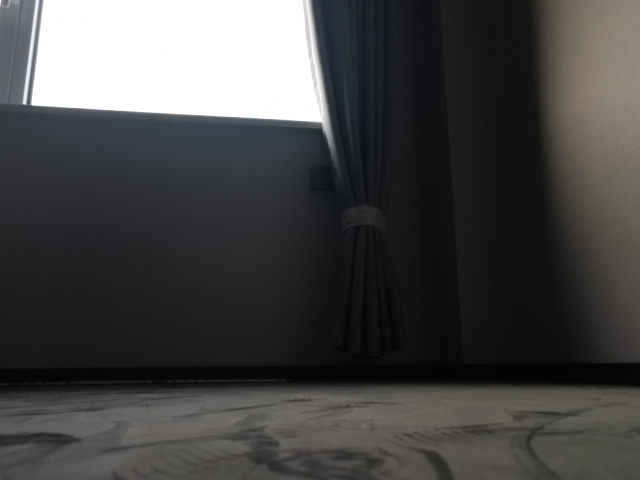curtain: (300, 1, 409, 360)
